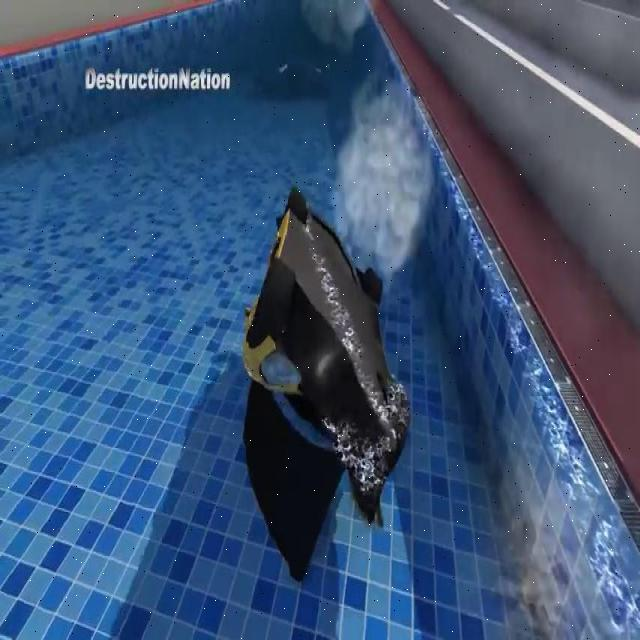severe: (238, 177, 412, 587)
